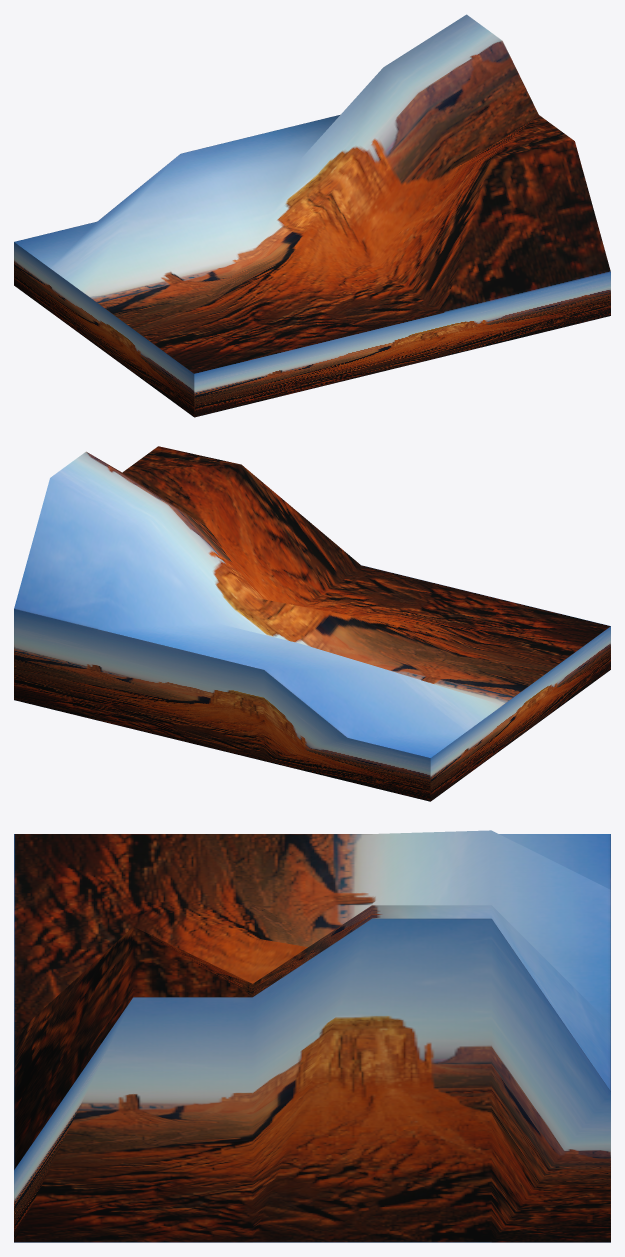
File: deformedBlock.FBX
3 views of the same model, one above another, from view 1: azimuth 30°, elevation 25°; view 2: azimuth 150°, elevation 25°; view 3: azimuth 270°, elevation 25° (orthographic). The views are drawn at different scales.
Parts seen in each view (by area): view 1: Box001; view 2: Box001; view 3: Box001.
Boxes of the visible parts, <box> form: Box001: <box>14,14,610,417</box>; Box001: <box>14,446,610,801</box>; Box001: <box>14,830,610,1242</box>.
Bounding box in the file's own units: 39.37 × 17.68 × 29.53.
1 material, 1 textured.
